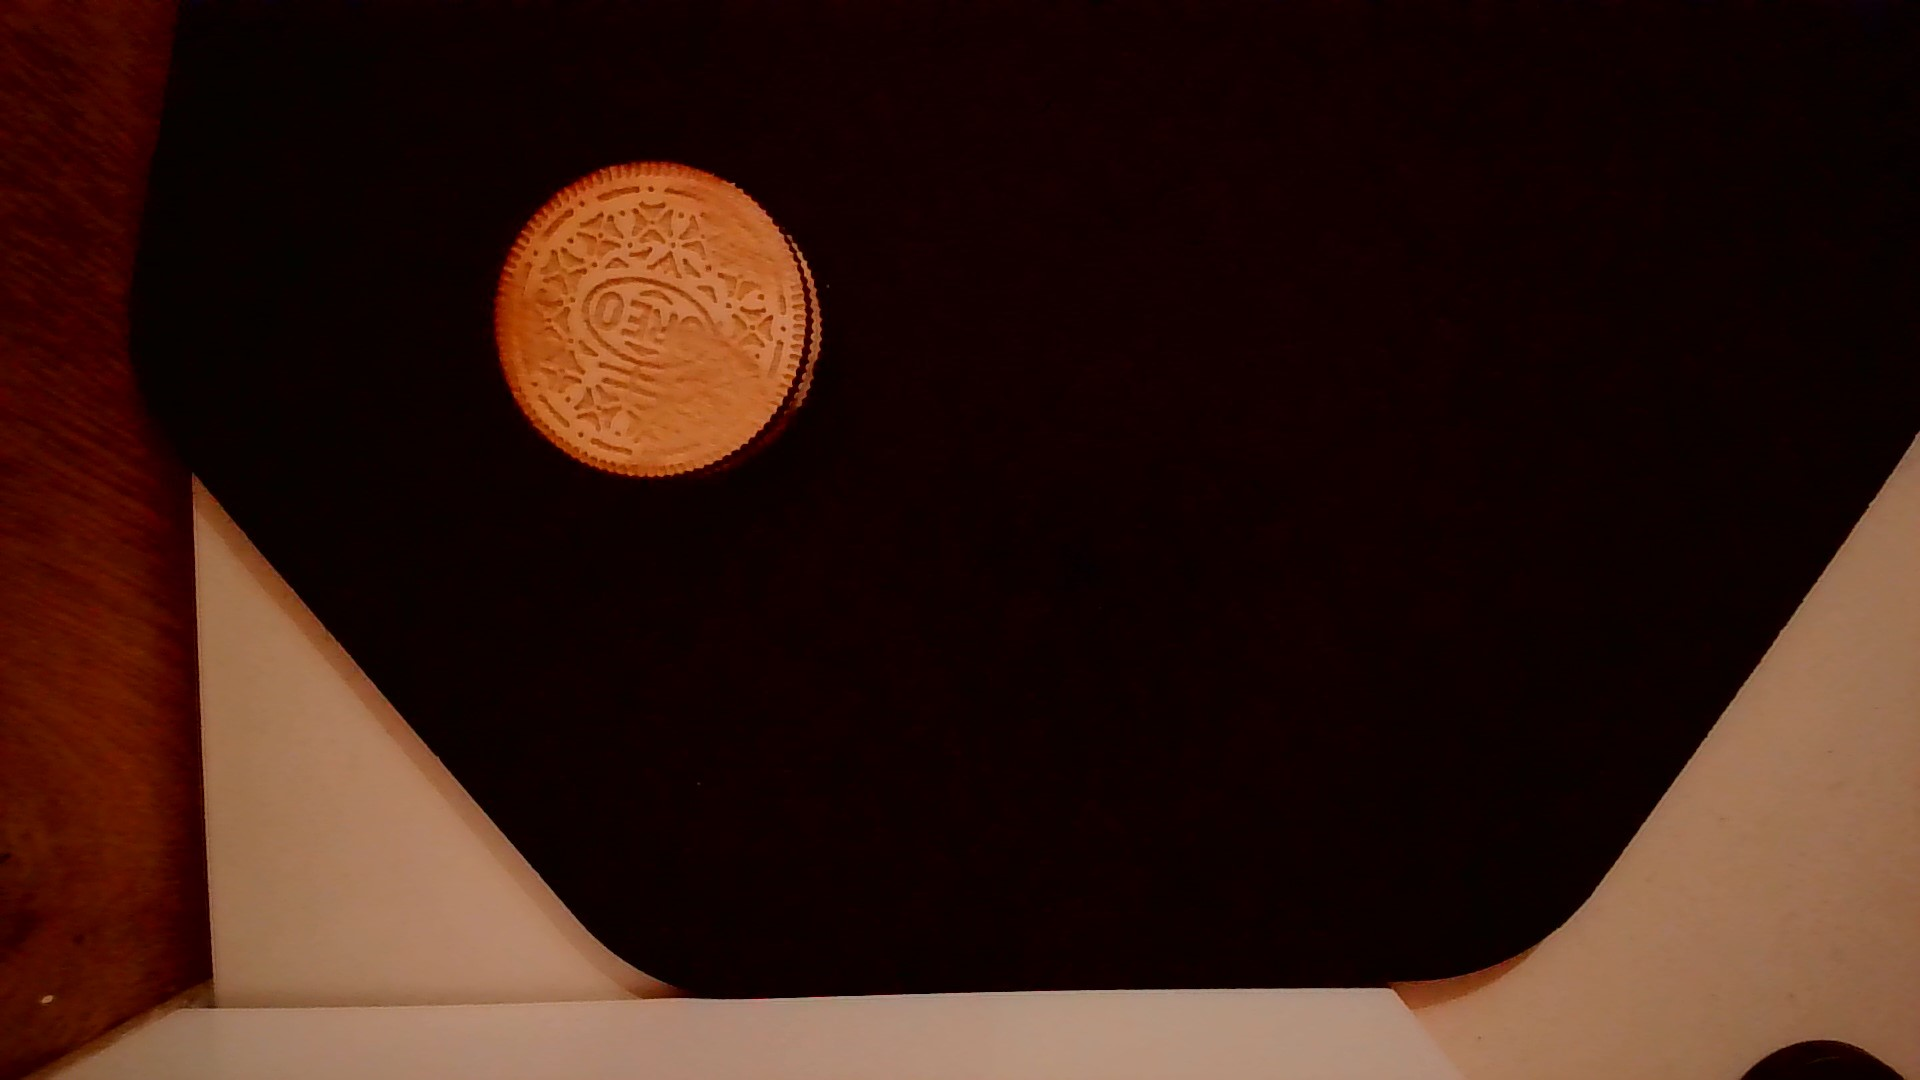Effacé: (616, 327, 774, 477), (692, 170, 800, 278), (493, 272, 574, 400)
Oréo: (487, 153, 829, 491)
